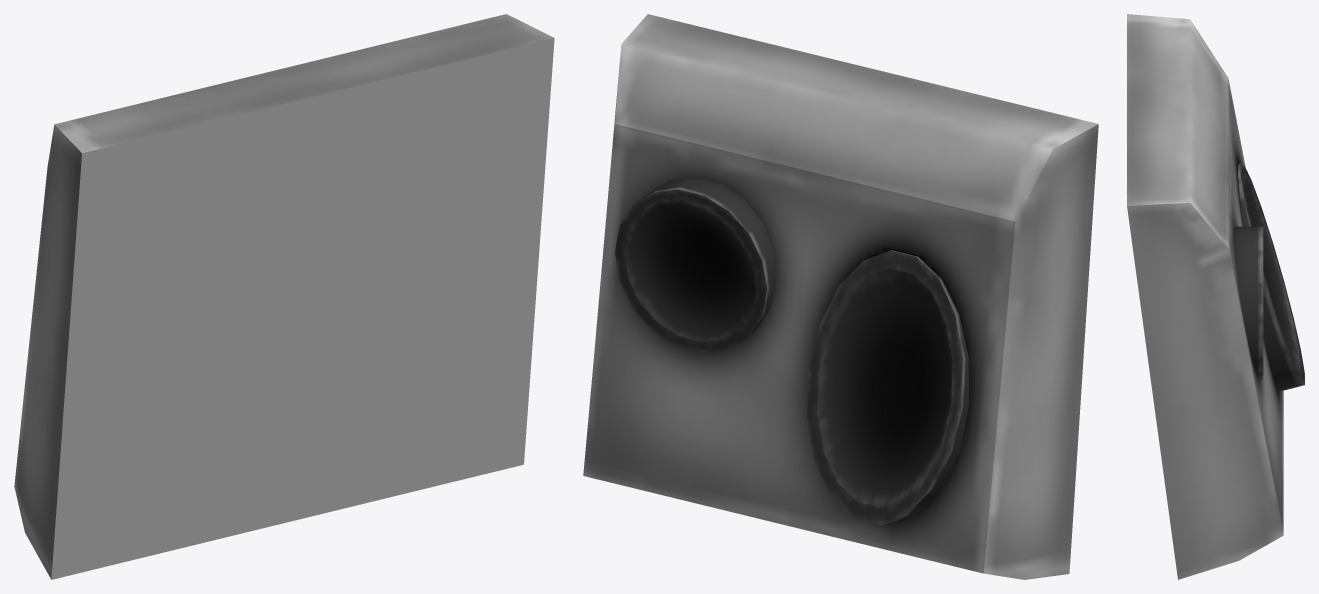
File: Gemini_TranslationRCS.dae
The picture shows the model from 3 angles, left to right: view 1: azimuth 30°, elevation 25°; view 2: azimuth 150°, elevation 25°; view 3: azimuth 270°, elevation 25°; orthographic projection. The views are drawn at different scales.
Parts seen in each view (by area): view 1: Leo_TranslationRCS; view 2: Leo_TranslationRCS, pCylinder118, pCylinder117; view 3: Leo_TranslationRCS, pCylinder118, pCylinder117.
Boxes of the visible parts, <box> form: Leo_TranslationRCS: <box>14,14,554,579</box>; Leo_TranslationRCS: <box>583,14,1098,579</box>; pCylinder118: <box>807,250,968,525</box>; pCylinder117: <box>615,177,776,352</box>; Leo_TranslationRCS: <box>1127,14,1283,579</box>; pCylinder118: <box>1238,163,1304,391</box>; pCylinder117: <box>1233,226,1263,379</box>.
Bounding box in the file's own units: 0.2257 × 0.205 × 0.0884.
